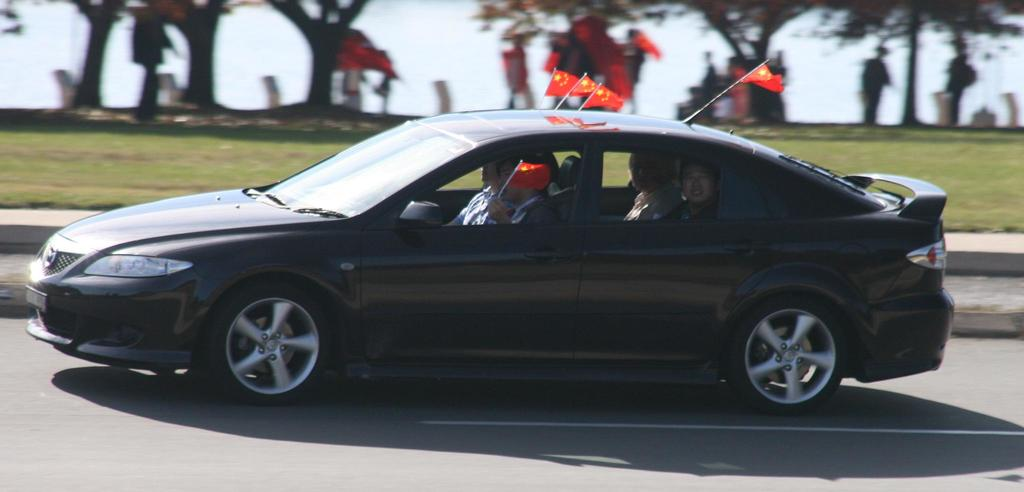person: (443, 153, 569, 225)
